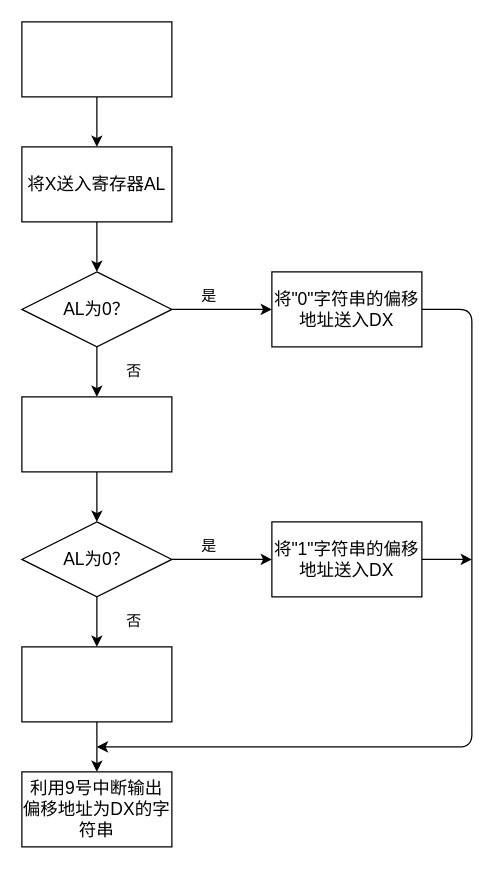
The diagram is 504 pixels wide and 869 high, and some of its shapes have lost their labels. The box of each missing label's shape, as (x1, y1, x2, y2) in pixels:
AL与80H相与: (21, 396, 172, 472)
将"-1"字符串的偏移地址送入DX: (21, 646, 172, 722)
设置X的值，以及ZER,MINUS,PLUS3个字符串: (21, 21, 172, 97)
